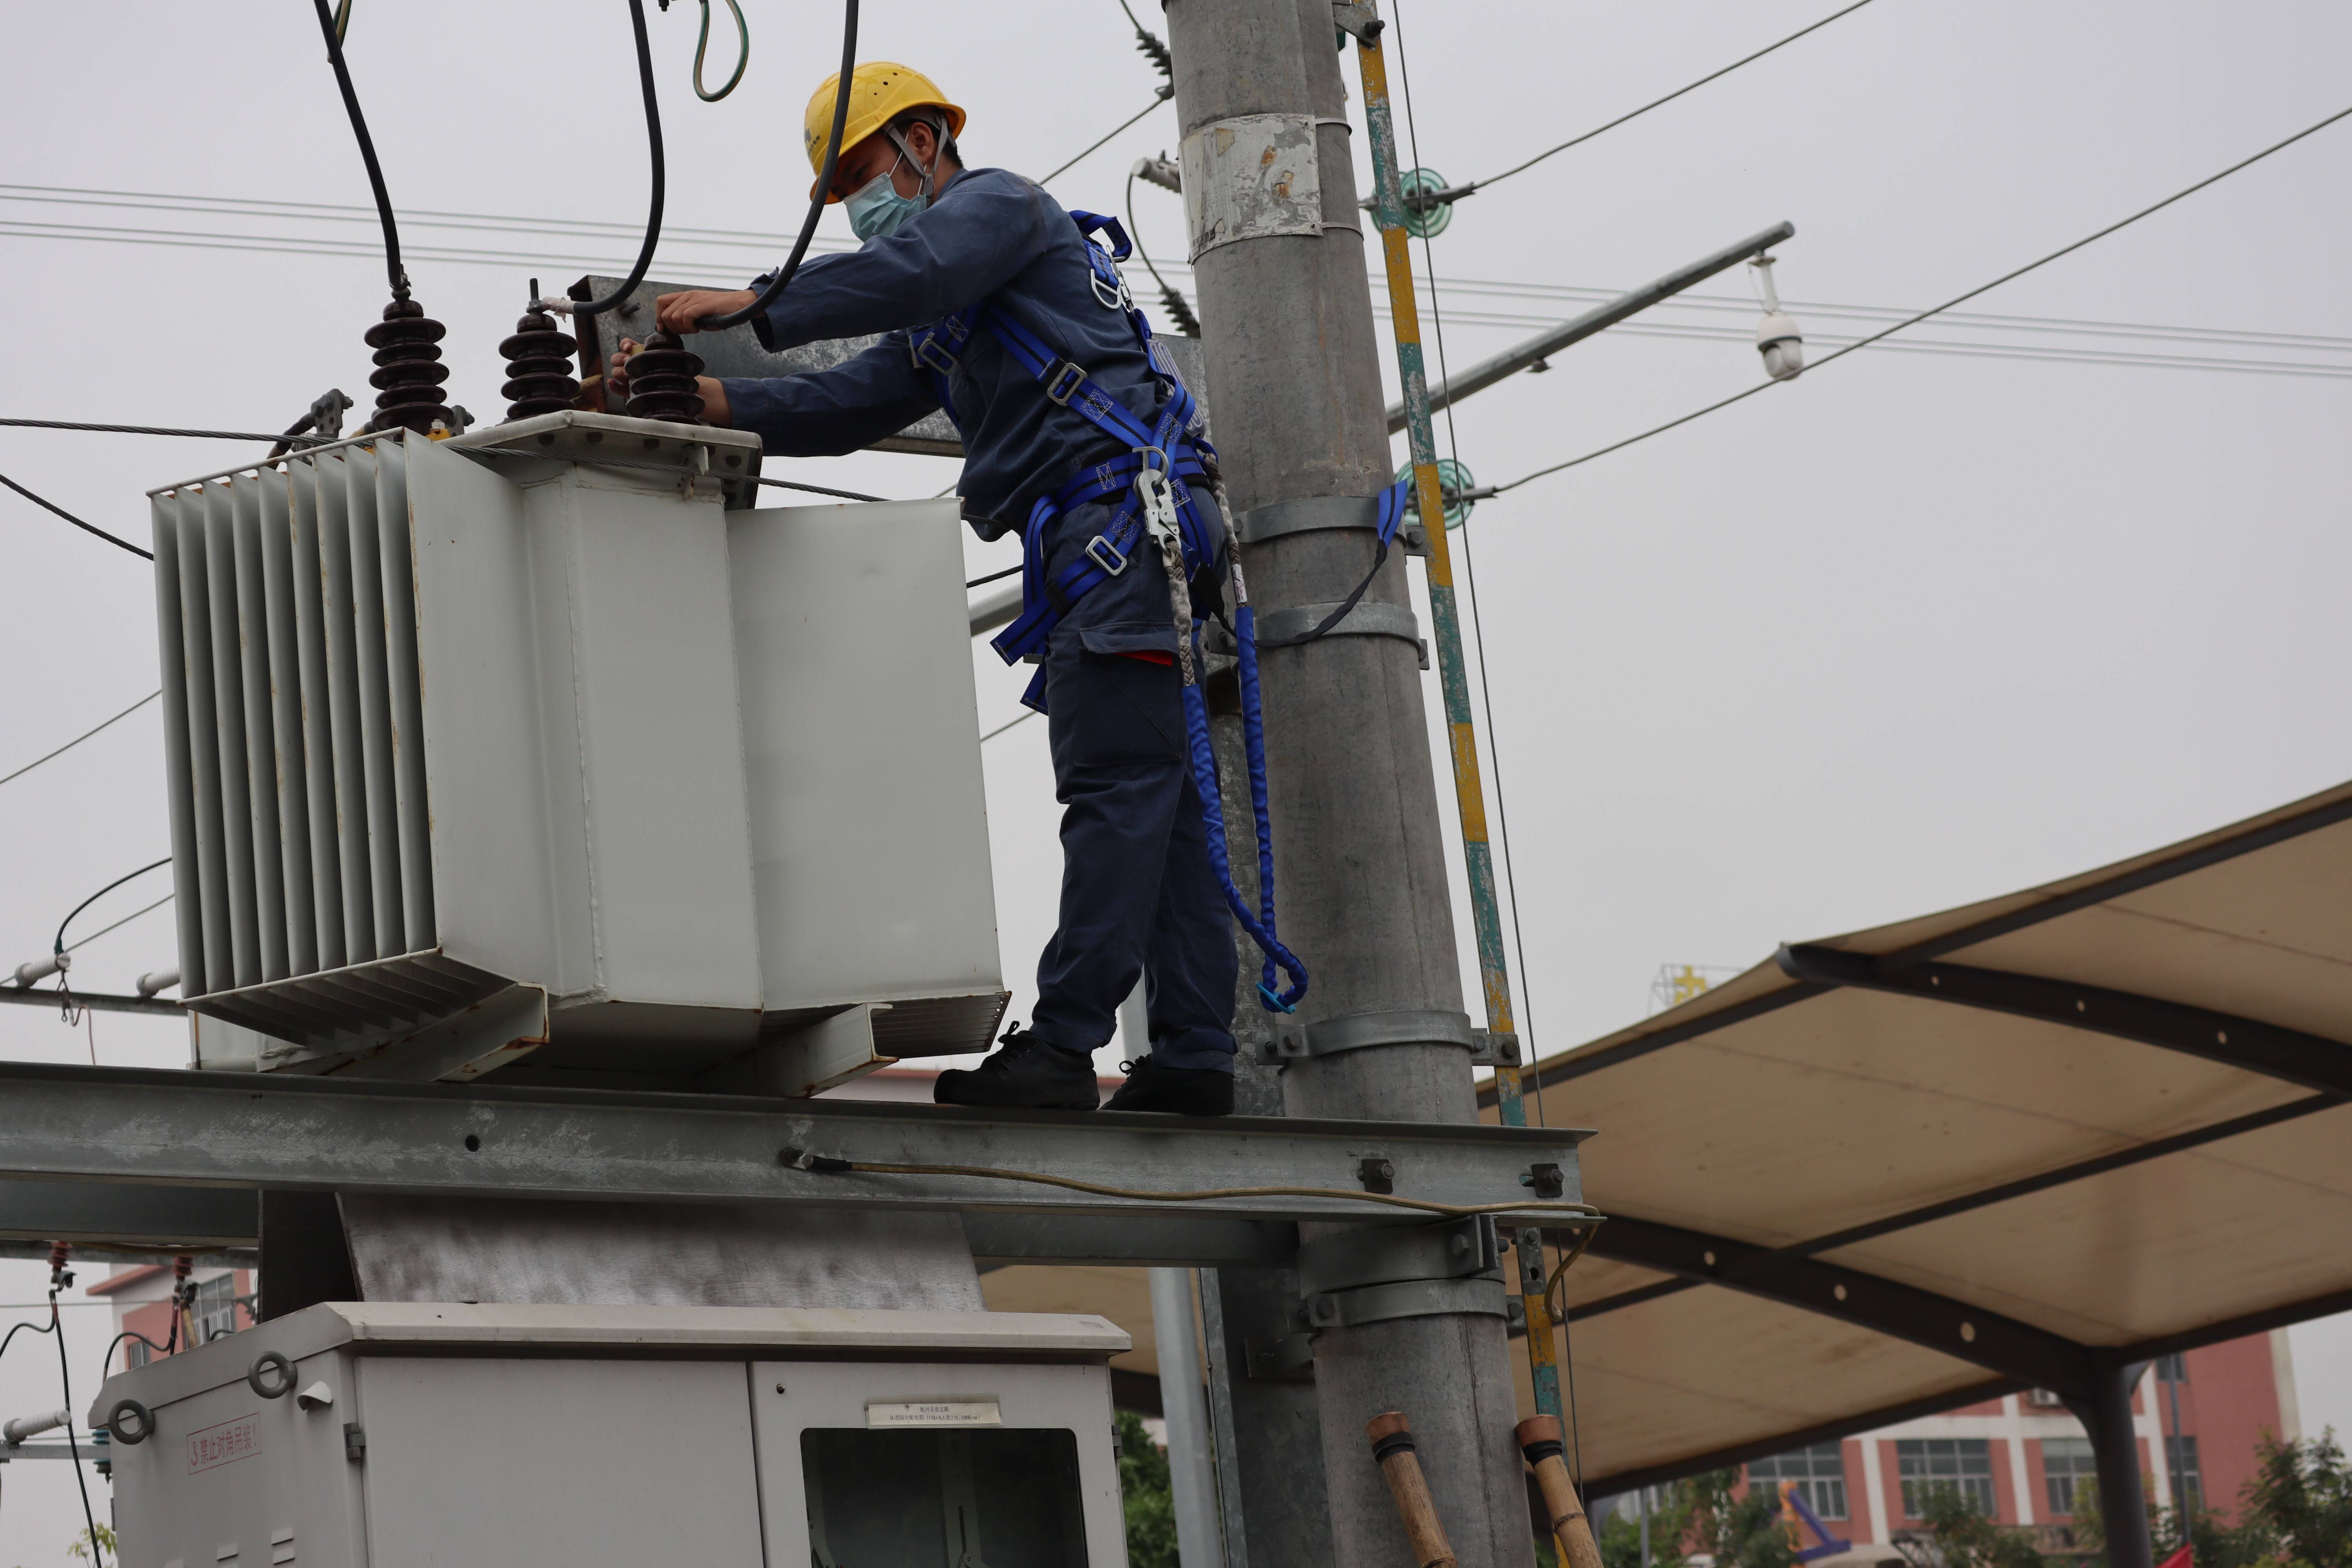downsuit: (982, 502, 1274, 1088)
upsuit: (710, 198, 1213, 490)
